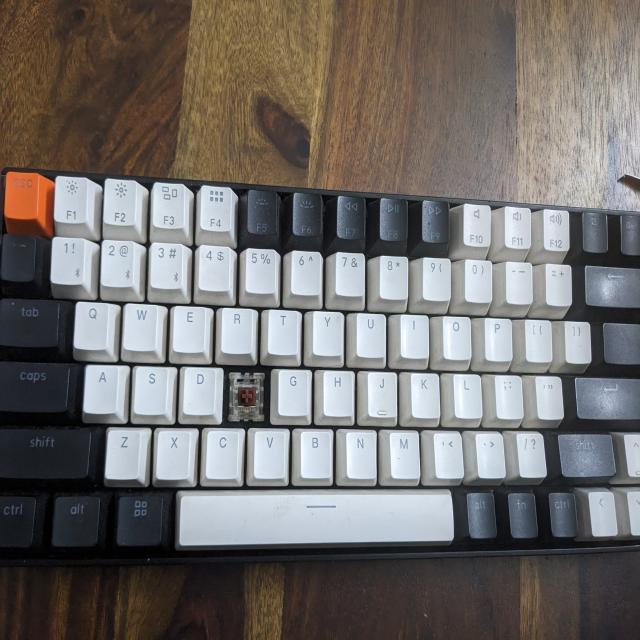key-switch: (226, 370, 269, 423)
